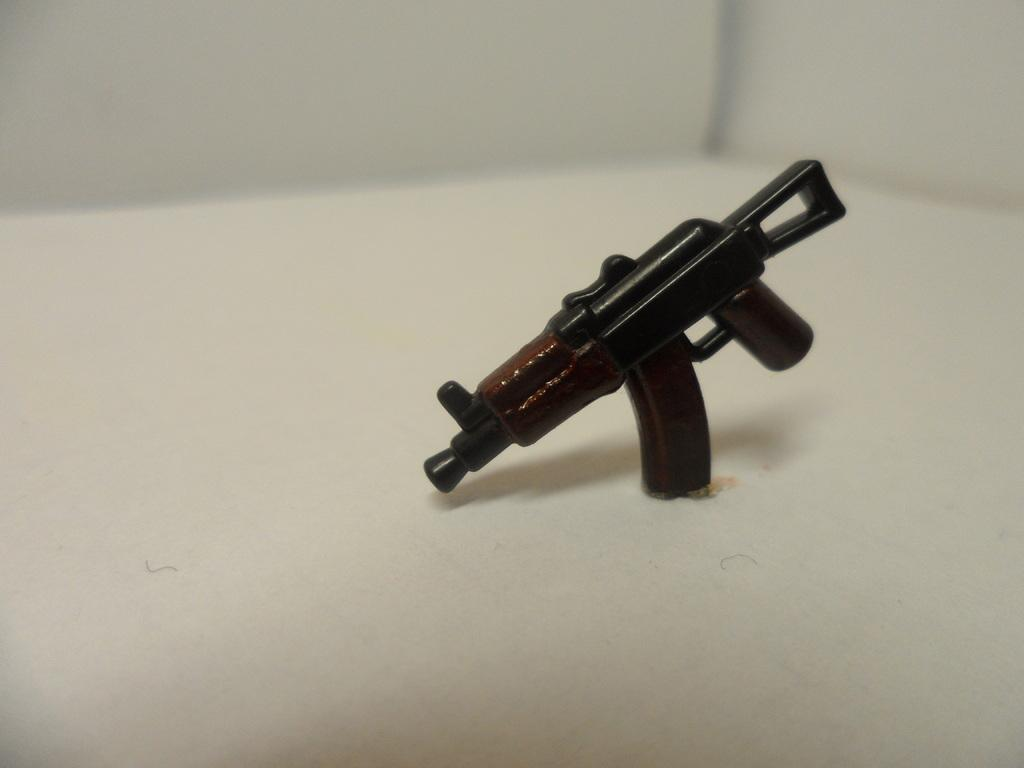Rifle: (417, 150, 853, 523)
